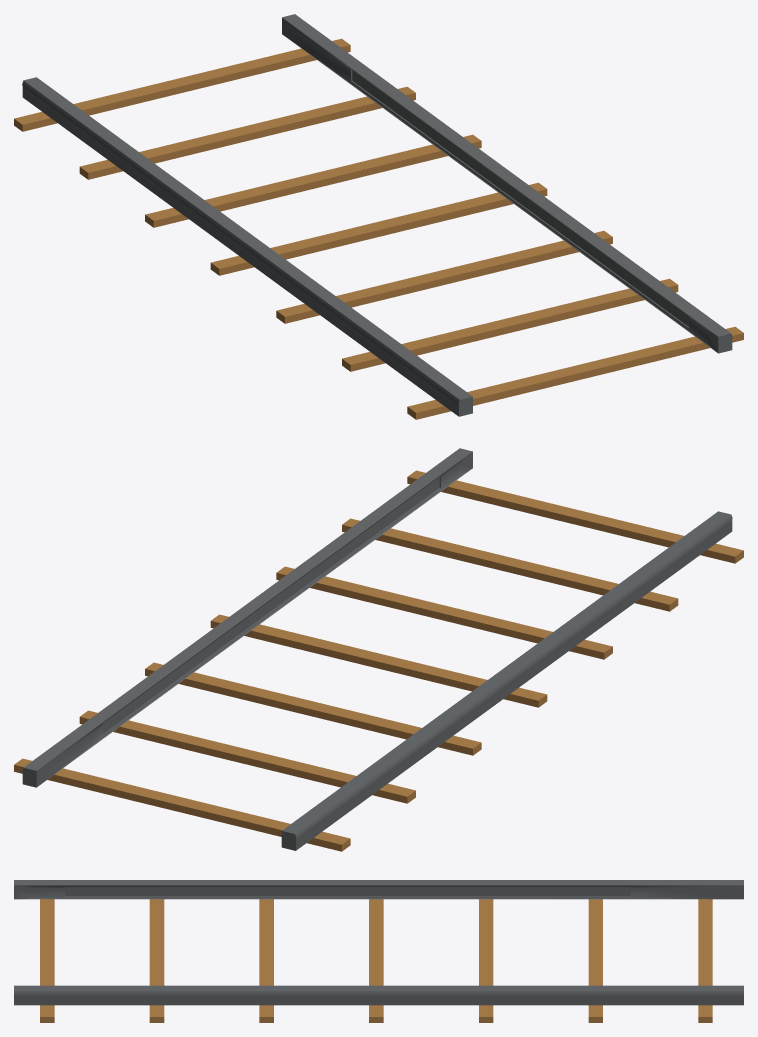
File: rail.fbx
3 renders of one model, top to bottom at view 1: azimuth 30°, elevation 25°; view 2: azimuth 150°, elevation 25°; view 3: azimuth 270°, elevation 25°, orthographic. The views are drawn at different scales.
Visible parts, largest first — view 1: Railing, Railing1, Wood, Wood3, Wood5, Wood2, Wood4, Wood6, Wood1; view 2: Railing, Railing1, Wood6, Wood3, Wood2, Wood, Wood5, Wood1, Wood4; view 3: Railing1, Railing, Wood1, Wood, Wood2, Wood3, Wood4, Wood5, Wood6.
Boxes of the visible parts, left/top/right/bottom form: Railing: left=22, top=77, right=472, bottom=416; Railing1: left=282, top=14, right=732, bottom=353; Wood: left=407, top=326, right=743, bottom=419; Wood3: left=210, top=182, right=547, bottom=275; Wood5: left=79, top=86, right=415, bottom=179; Wood2: left=276, top=230, right=612, bottom=323; Wood4: left=145, top=134, right=481, bottom=227; Wood6: left=14, top=38, right=350, bottom=131; Wood1: left=342, top=278, right=678, bottom=371; Railing: left=281, top=511, right=732, bottom=850; Railing1: left=22, top=448, right=472, bottom=787; Wood6: left=14, top=758, right=350, bottom=851; Wood3: left=210, top=614, right=547, bottom=707; Wood2: left=276, top=566, right=612, bottom=659; Wood: left=407, top=470, right=743, bottom=563; Wood5: left=79, top=710, right=415, bottom=803; Wood1: left=342, top=518, right=678, bottom=611; Wood4: left=145, top=662, right=481, bottom=755; Railing1: left=14, top=985, right=743, bottom=1005; Railing: left=14, top=880, right=743, bottom=899; Wood1: left=149, top=899, right=164, bottom=1022; Wood: left=40, top=899, right=54, bottom=1022; Wood2: left=259, top=899, right=273, bottom=1022; Wood3: left=369, top=899, right=383, bottom=1022; Wood4: left=479, top=899, right=493, bottom=1022; Wood5: left=588, top=899, right=602, bottom=1022; Wood6: left=698, top=899, right=712, bottom=1022.
Bounding box in the file's own units: 7.22 × 0.5184 × 16.66.
